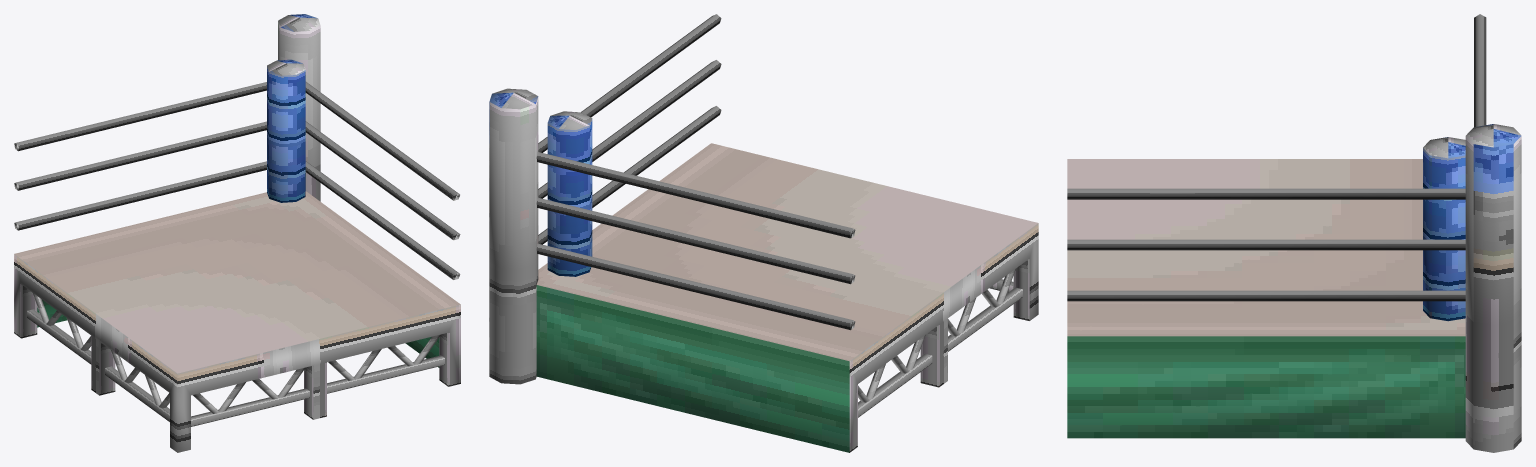
File: int_wrs_bedW02.dae
3 views of the same model, side by side, from view 1: azimuth 30°, elevation 25°; view 2: azimuth 150°, elevation 25°; view 3: azimuth 270°, elevation 25° (orthographic). The views are drawn at different scales.
Visible parts, largest first — view 1: int_wrs_bedW02; view 2: int_wrs_bedW02; view 3: int_wrs_bedW02.
Boxes of the visible parts, left/top/right/bottom form: int_wrs_bedW02: left=14, top=14, right=460, bottom=452; int_wrs_bedW02: left=489, top=14, right=1038, bottom=452; int_wrs_bedW02: left=1067, top=14, right=1521, bottom=452.
Size of the model in its own units: 64.72 by 49.1 by 64.72.
2 materials, 2 textured.
